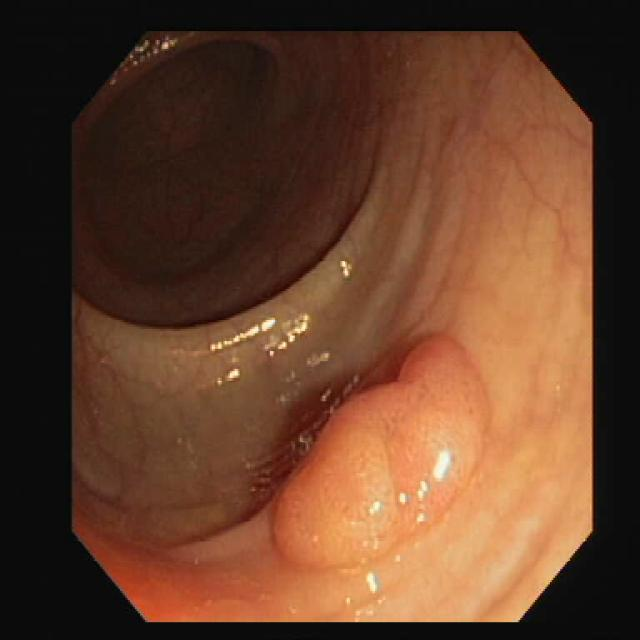tumor: (268, 338, 505, 571)
